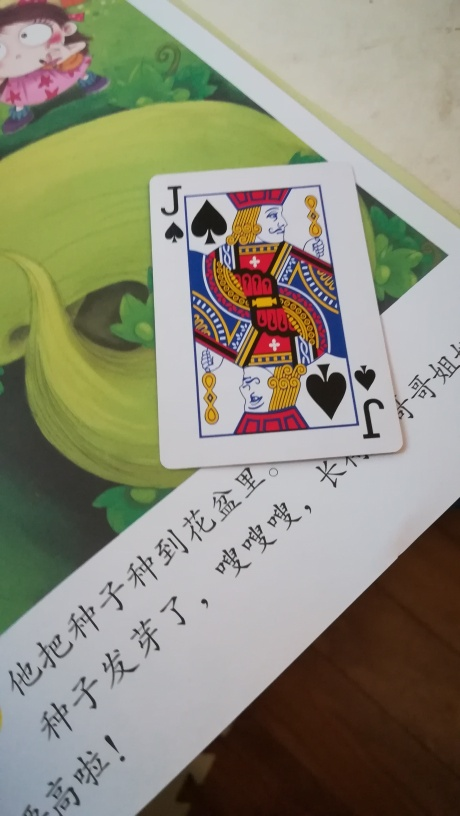ht j: (146, 159, 409, 471)
